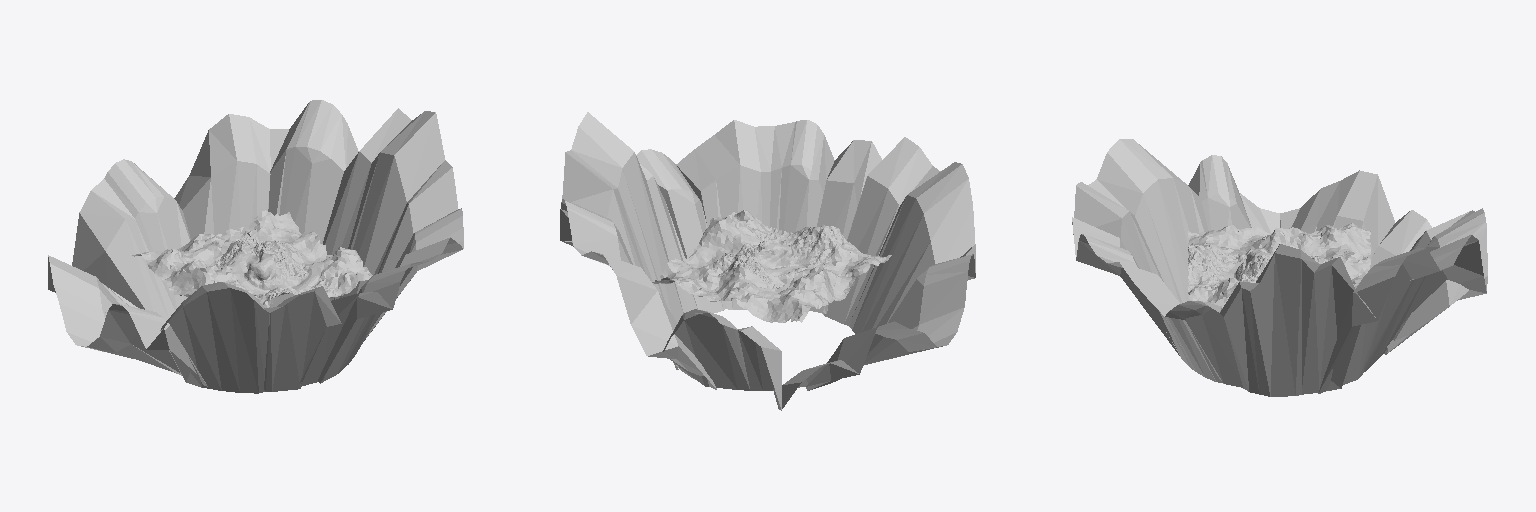
The model's file is testterrain02.obj.
3 renders of one model, left to right at view 1: azimuth 30°, elevation 25°; view 2: azimuth 150°, elevation 25°; view 3: azimuth 270°, elevation 25°, orthographic.
Visible parts, largest first — view 1: Cylinder, Mountains_Base.003; view 2: Cylinder, Mountains_Base.003; view 3: Cylinder, Mountains_Base.003.
Part boxes in pixels (x1,y1,x2,y2): Cylinder: (48, 100, 463, 393); Mountains_Base.003: (132, 210, 372, 307); Cylinder: (560, 112, 975, 410); Mountains_Base.003: (651, 210, 891, 322); Cylinder: (1072, 139, 1487, 396); Mountains_Base.003: (1188, 223, 1371, 302).
Size of the model in its own units: 85.02 by 45.2 by 85.02.